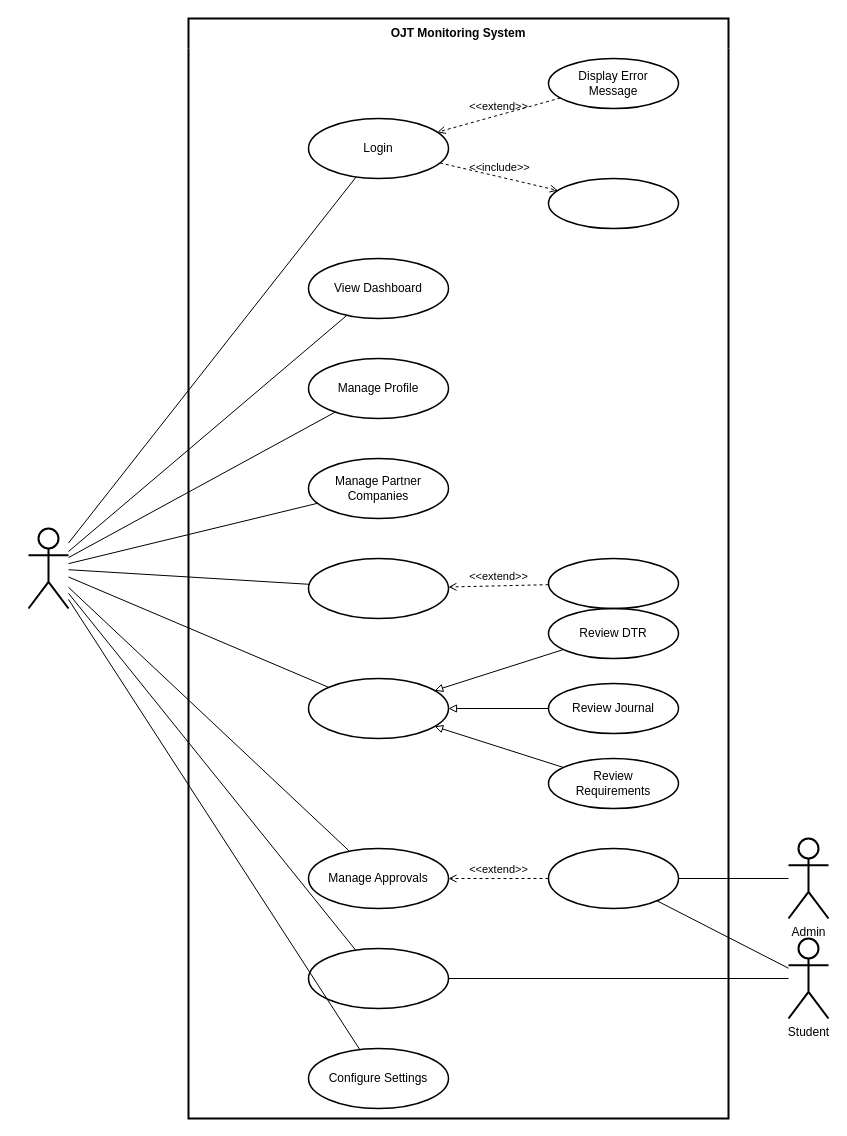
This 847x1136 diagram has some shape labels left out. The shapes that lost their labels are listed below. From the top down, each one's box as (x1, y1, x2, y2) in pixels, then its label:
(547, 177, 679, 229): Verify Credentials
(27, 527, 69, 609): Coordinator
(307, 557, 449, 619): Manage Students
(547, 557, 679, 609): Export Student List
(307, 677, 449, 739): Review Submissions
(547, 847, 679, 909): Approve Dept Transfer
(307, 947, 449, 1009): Chat with Student
